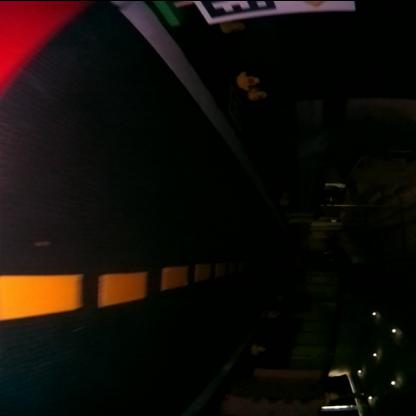Duckie: (237, 71, 261, 89), (249, 88, 268, 99), (255, 343, 266, 353)
QR code: (197, 0, 277, 20)
